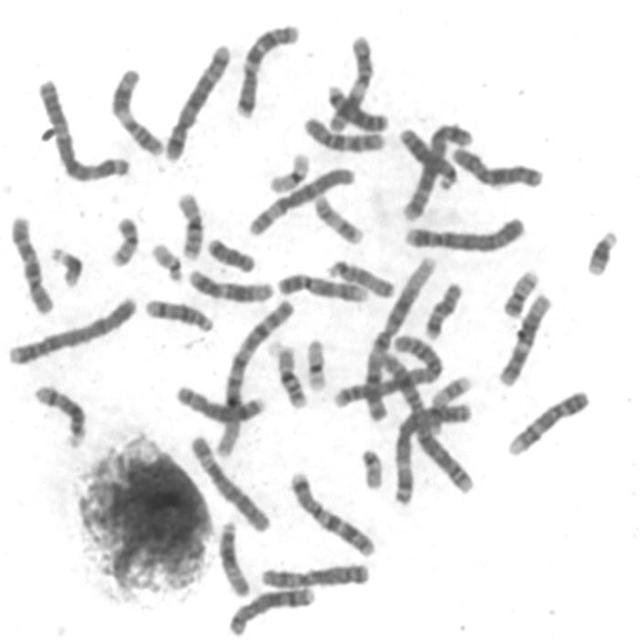A1: (209, 293, 297, 460), (355, 251, 437, 421)
A2: (376, 341, 478, 495), (330, 330, 445, 410)
A3: (32, 74, 132, 183), (388, 395, 477, 508)
B4: (3, 289, 139, 367), (398, 210, 528, 254)
B5: (158, 35, 234, 163), (396, 118, 476, 222)
C10: (5, 209, 57, 316), (298, 110, 388, 154)
C11: (106, 61, 166, 158), (324, 28, 376, 134)
C12: (492, 287, 554, 388), (182, 264, 276, 304)
C6: (184, 428, 274, 534), (243, 160, 358, 238)
C7: (284, 465, 378, 559), (229, 16, 303, 119)
C8: (223, 581, 318, 638), (169, 378, 267, 424)
C9: (502, 383, 593, 459), (272, 266, 369, 304)
D13: (394, 121, 460, 192), (321, 78, 391, 134)
D14: (28, 378, 89, 450), (139, 292, 216, 334)
D15: (322, 252, 397, 299), (212, 513, 252, 599)
E16: (269, 337, 310, 409), (171, 185, 207, 261)
E17: (309, 190, 366, 246), (422, 374, 473, 434)
E18: (419, 276, 466, 341), (202, 231, 257, 275)
F19: (262, 146, 312, 195), (300, 331, 329, 393)
F20: (497, 263, 542, 319), (104, 210, 141, 269)
G21: (581, 223, 621, 278), (44, 240, 86, 289)
G22: (147, 237, 186, 284), (356, 442, 386, 491)
X: (446, 141, 546, 191), (255, 557, 373, 590)
